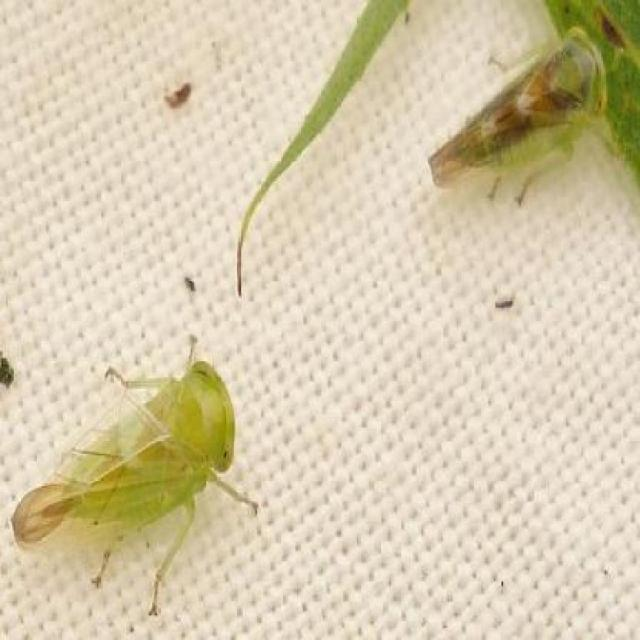green-leafhopper: (9, 332, 257, 617), (428, 28, 606, 209)
